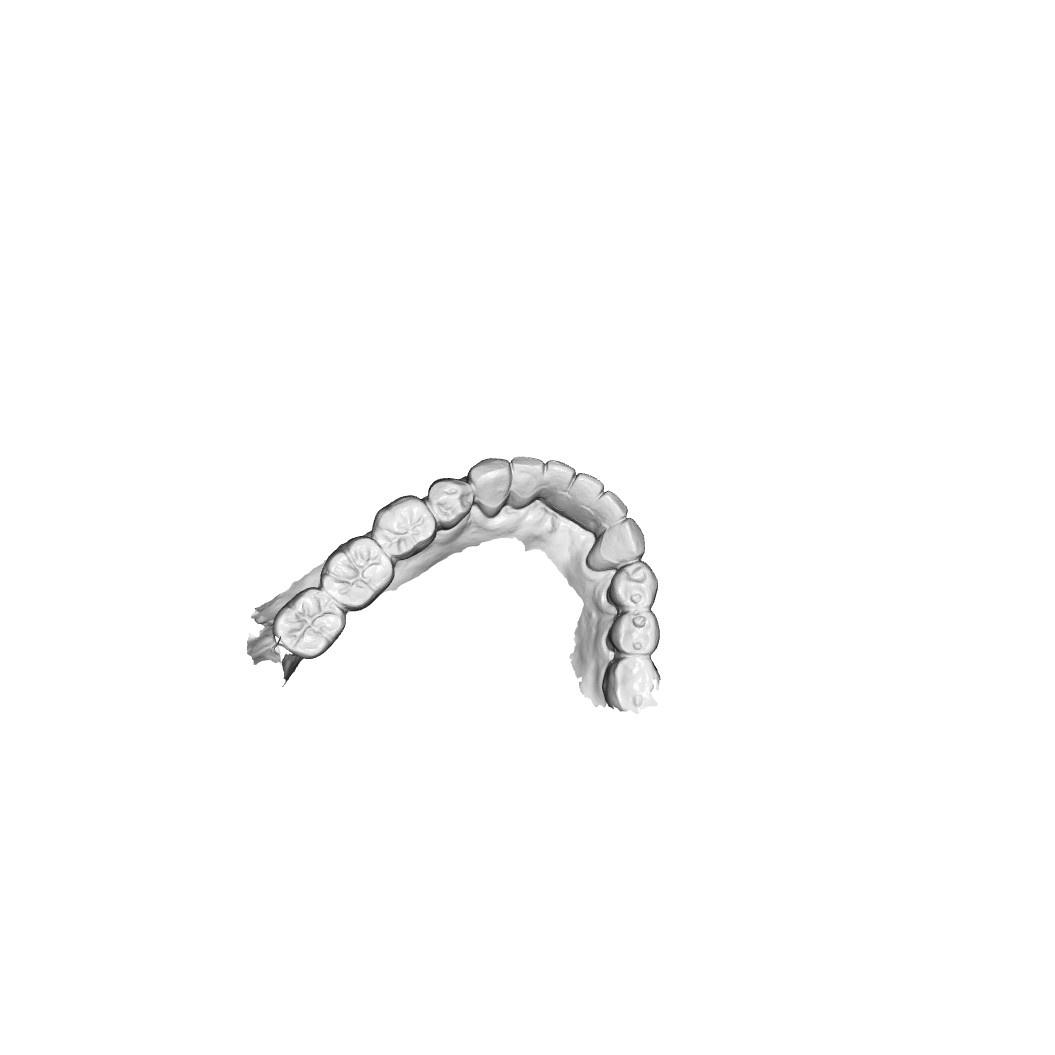canine: (594, 516, 647, 572), (470, 457, 515, 518)
incisor: (512, 452, 546, 510), (543, 457, 573, 507), (591, 491, 631, 528), (570, 470, 606, 503)
molar: (275, 592, 342, 655), (325, 540, 389, 601), (603, 656, 669, 704)
premolar: (377, 495, 434, 557), (606, 563, 660, 613), (430, 477, 477, 531), (605, 613, 664, 655)
